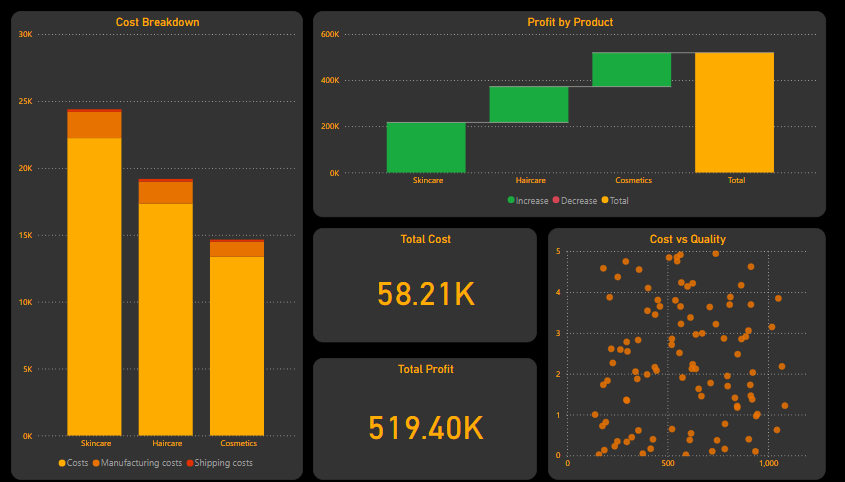

Layout of this report page (visuals, bound fields, positions):
{"tool":"powerbi","page":{"name":"Supply Chain Costs","canvas":[1280,720],"ordinal":5},"visuals":[{"type":"columnChart","title":"Cost Breakdown","fields":{"Y":["Sum(Cleaned_Data.Costs)","Sum(Cleaned_Data.Manufacturing costs)","Sum(Cleaned_Data.Shipping costs)"],"Category":["Cleaned_Data.Product Type"]},"box":[20.6,17.6,451.1,689.1],"z":0},{"type":"waterfallChart","title":"Profit by Product","fields":{"Category":["Cleaned_Data.Product Type"],"Y":["Cleaned_Data.Total Profit"]},"box":[486.4,17.6,771.4,302.7],"z":1000},{"type":"card","title":"Total Cost","fields":{"Values":["Cleaned_Data.Total cost"]},"box":[486.4,336.5,329.1,167.5],"z":2000},{"type":"card","title":"Total Profit","fields":{"Values":["Cleaned_Data.Total Profit"]},"box":[486.4,527.5,329.1,179.3],"z":3000},{"type":"scatterChart","title":"Cost vs Quality","fields":{"X":["Cleaned_Data.Total cost"],"Category":["Cleaned_Data.Defect rates"],"Y":["Sum(Cleaned_Data.Defect rates)"]},"box":[831.7,336.5,426.1,370.3],"z":4000}]}

Visuals, with their boxes in screenshot pixels (x1, y1, x2, y2), scaled from the page's 1280x720 canvas onto the 845x482 screenshot:
"Cost Breakdown" columnChart: bbox=(14, 12, 311, 473)
"Profit by Product" waterfallChart: bbox=(321, 12, 830, 214)
"Total Cost" card: bbox=(321, 225, 538, 337)
"Total Profit" card: bbox=(321, 353, 538, 473)
"Cost vs Quality" scatterChart: bbox=(549, 225, 830, 473)
